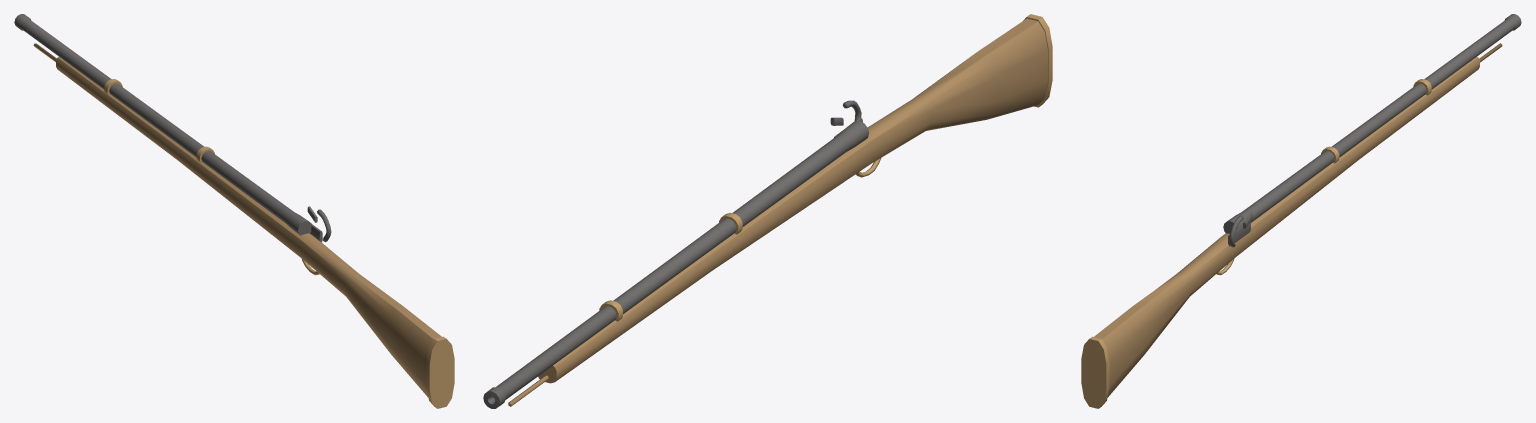
File: musket.glb
3 renders of one model, left to right at view 1: azimuth 30°, elevation 25°; view 2: azimuth 150°, elevation 25°; view 3: azimuth 330°, elevation 25°, orthographic. The views are drawn at different scales.
Parts seen in each view (by area): view 1: musket; view 2: musket; view 3: musket.
Part boxes in pixels (x1,y1,x2,y2): musket: (14,14,454,408); musket: (483,14,1052,408); musket: (1081,14,1521,408).
Bounding box in the file's own units: 0.1098 × 0.3741 × 2.96.
